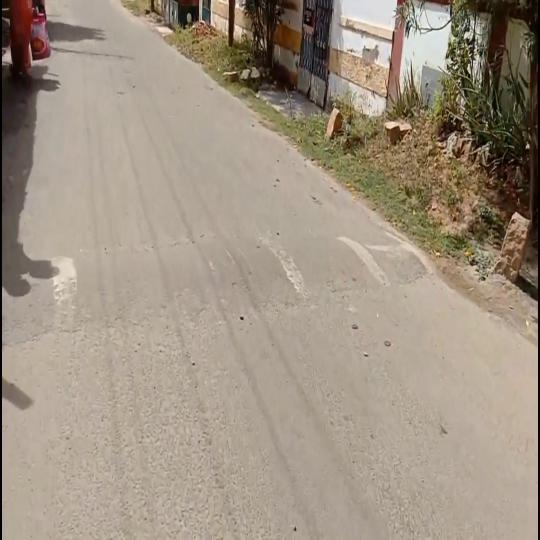Speed Bump: (2, 228, 434, 343)
